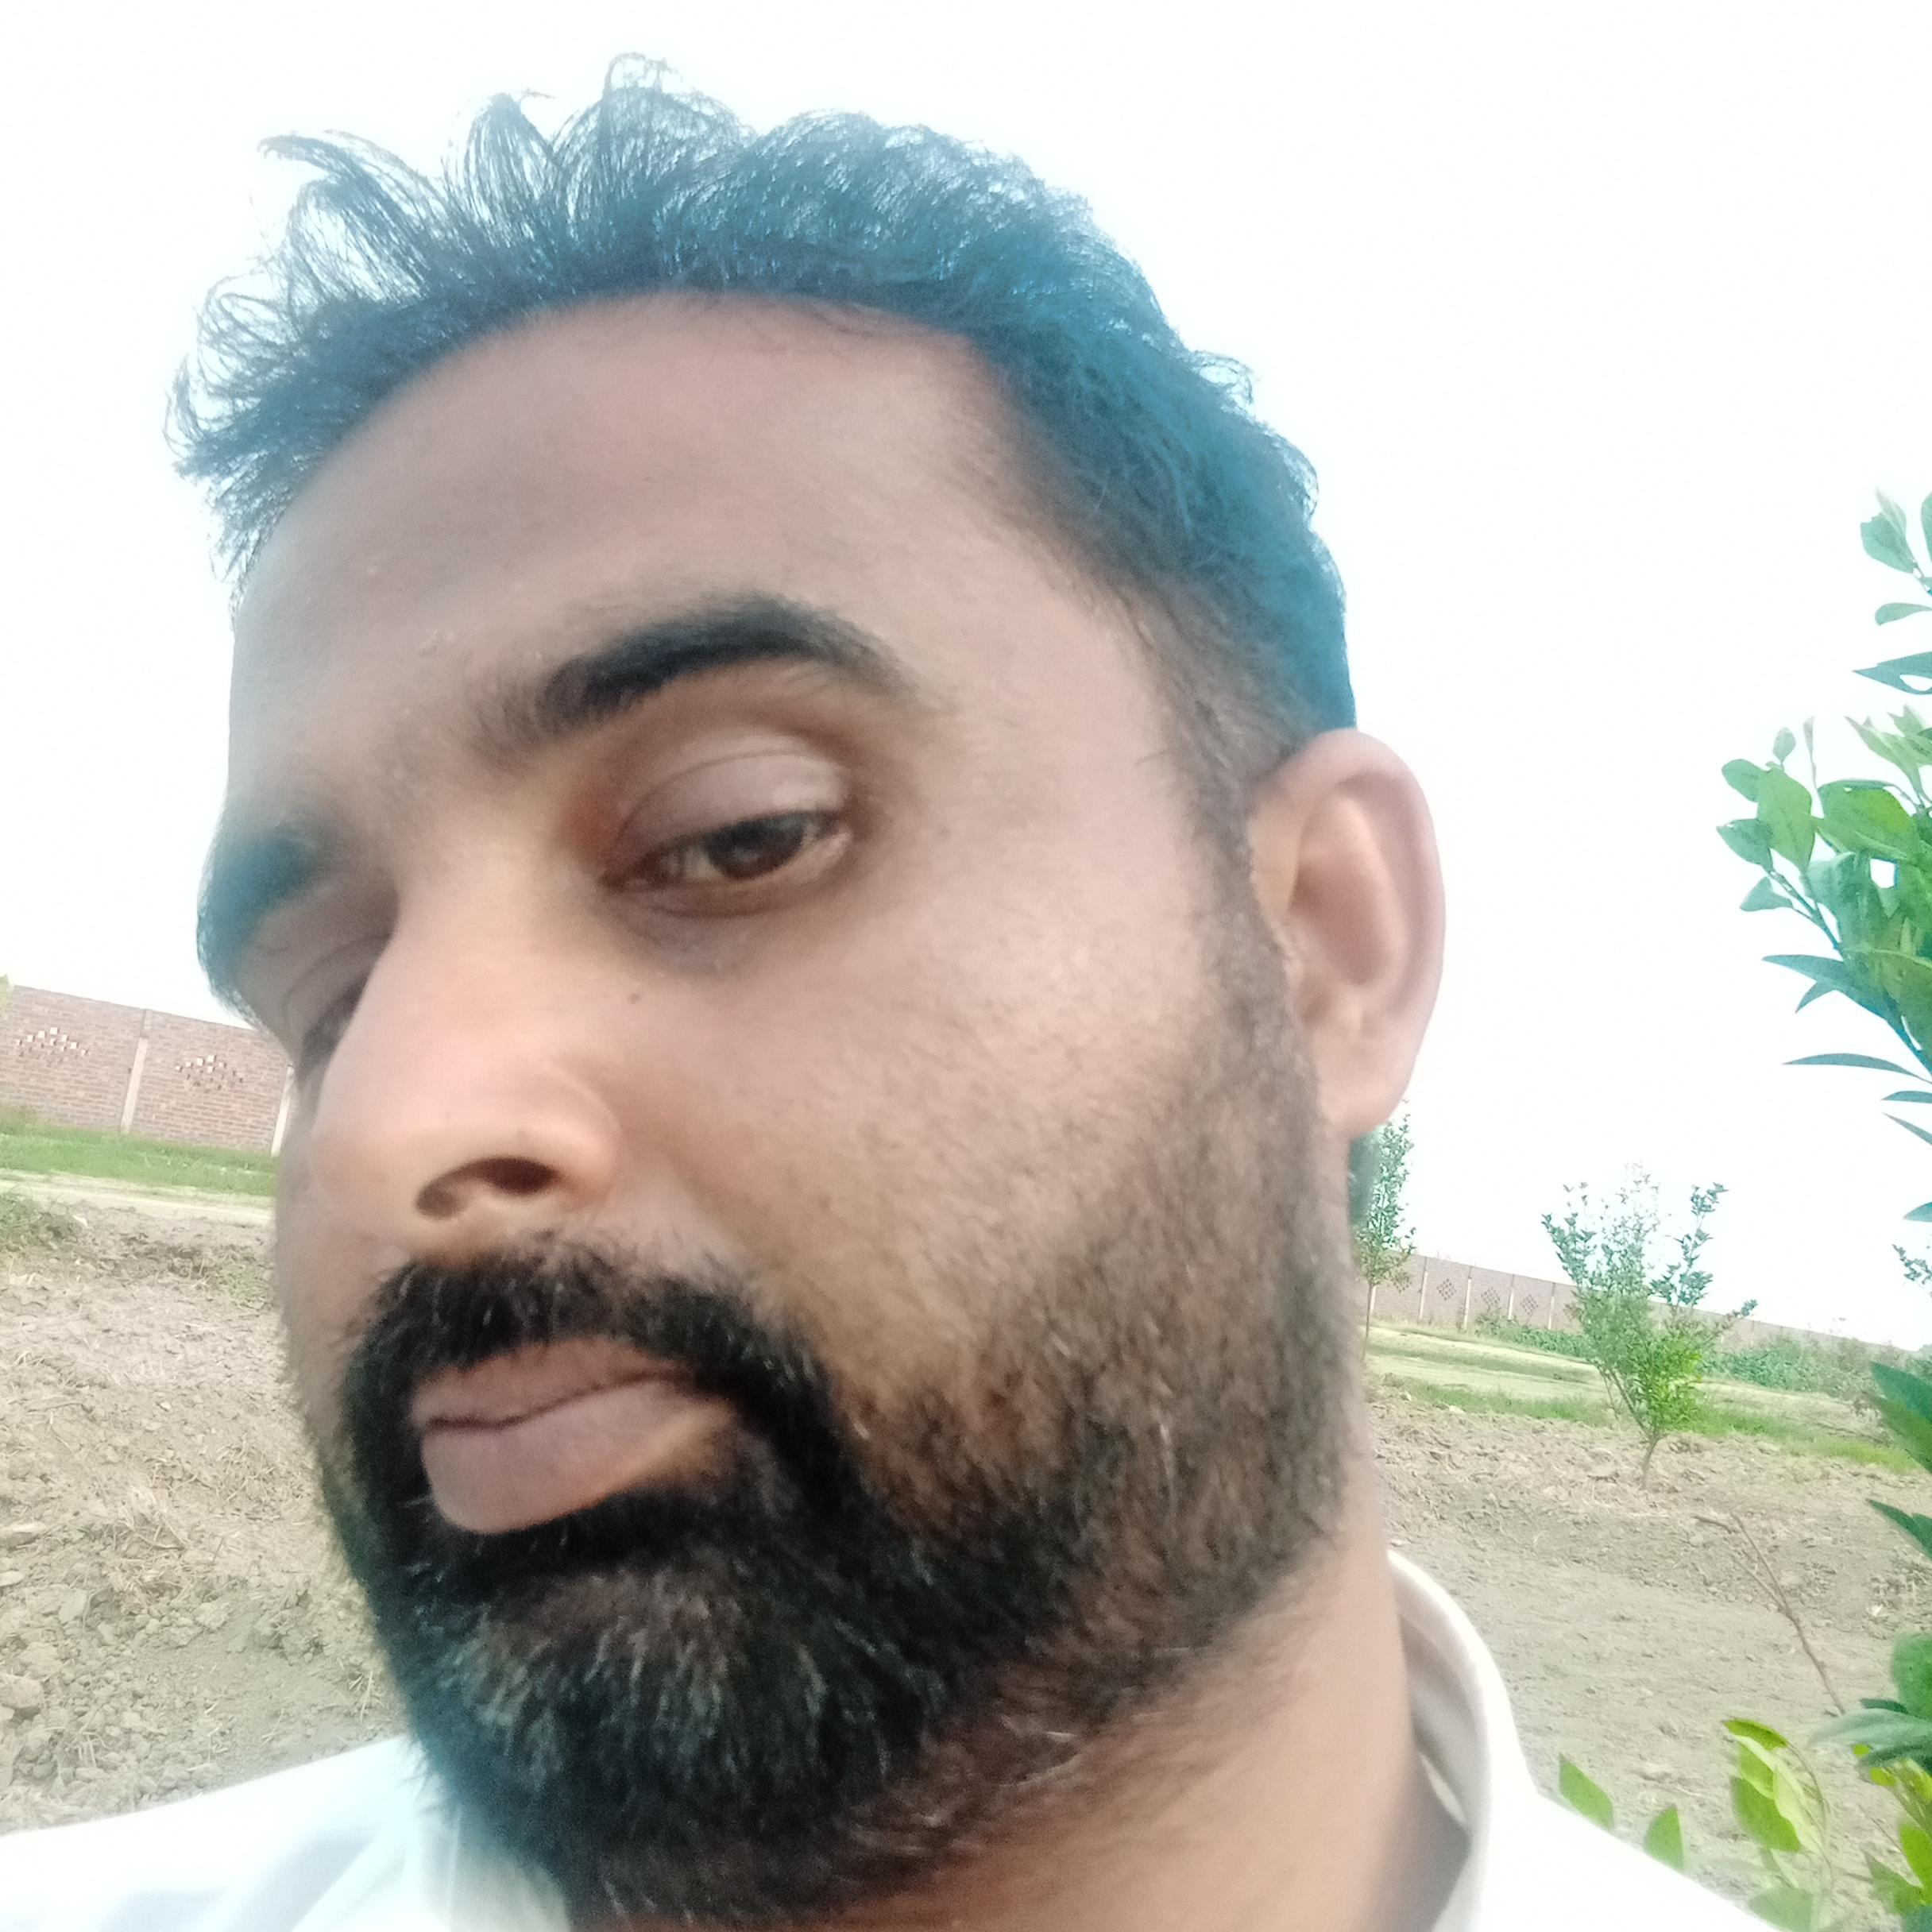Acne: (409, 617, 456, 660), (361, 548, 391, 589)
Englarged-Pores: (833, 975, 1093, 1286)
Eyebags: (559, 870, 916, 980)
